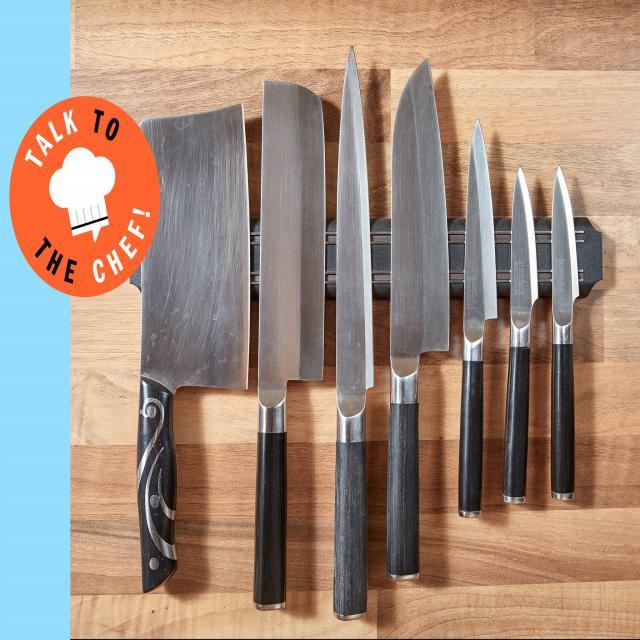cleaver: (116, 95, 252, 596), (251, 79, 332, 611)
knife: (371, 38, 451, 584), (327, 43, 376, 618), (449, 108, 501, 518), (495, 159, 538, 520), (544, 164, 572, 503)
